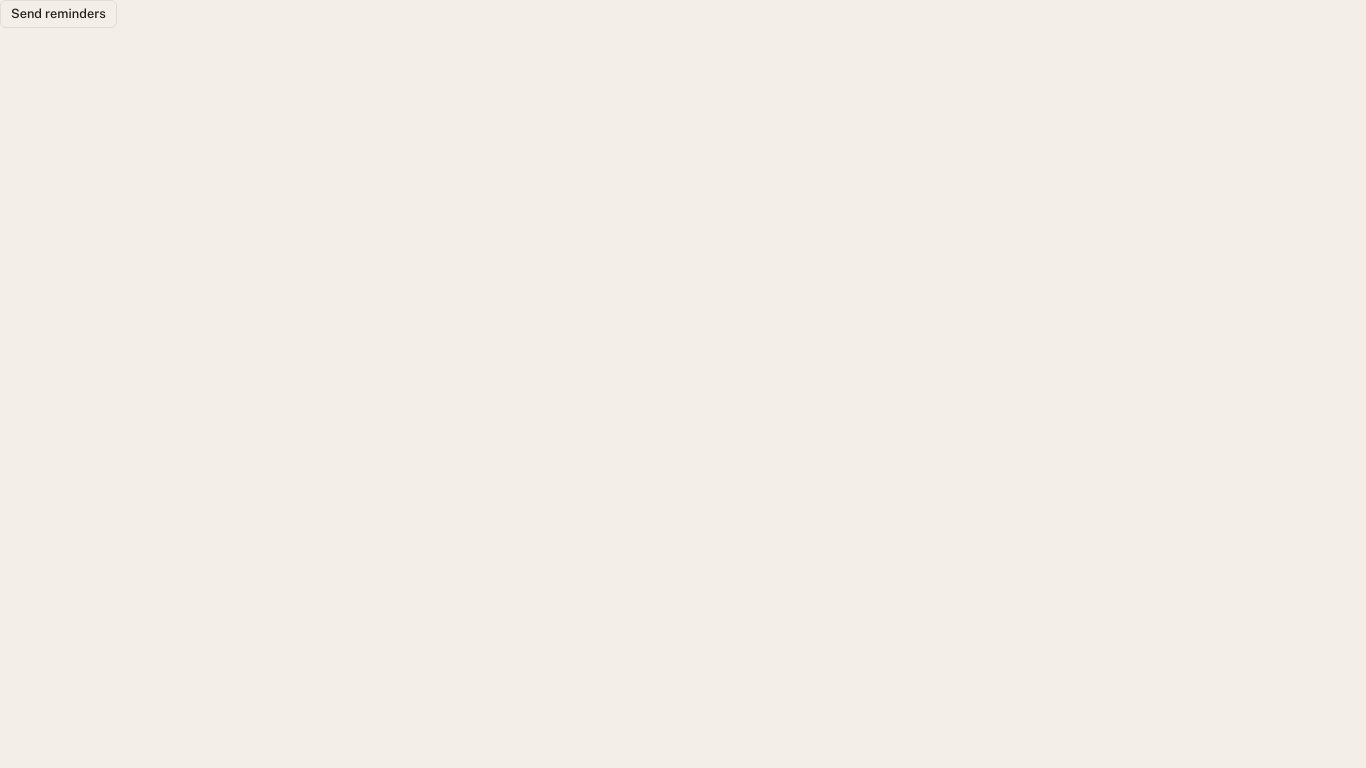
Scenario: SendRemindersDialog › shows counts, skipped note and never-sent label
Click the button "Send reminders": (58, 14) [0,0,117,28]
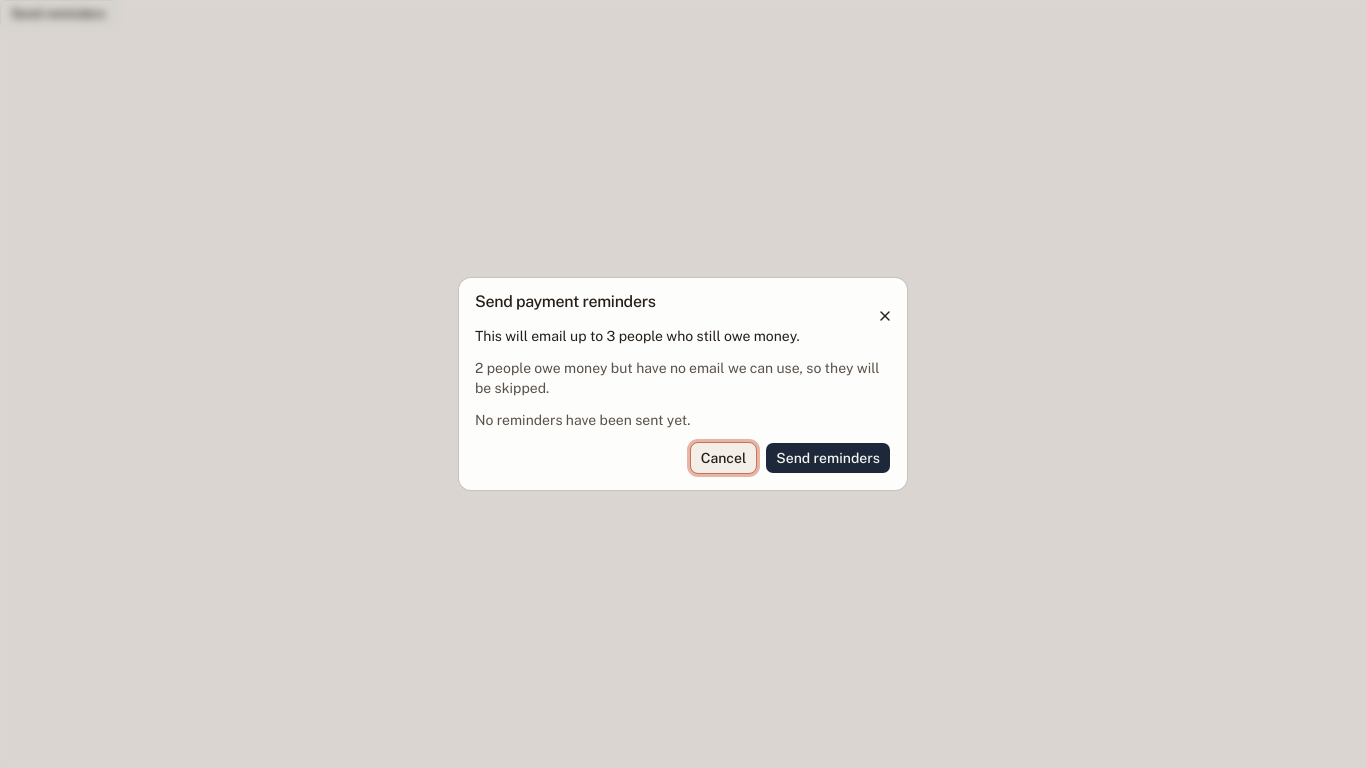
Check: the text "No reminders have been sent yet." is shown, box [475,412,690,428]
Check: the text "This will email up to 3 people who still owe money." is shown, box [475,328,800,344]
Check: the text "2 people owe money but have no email" is shown, box [475,358,891,398]
